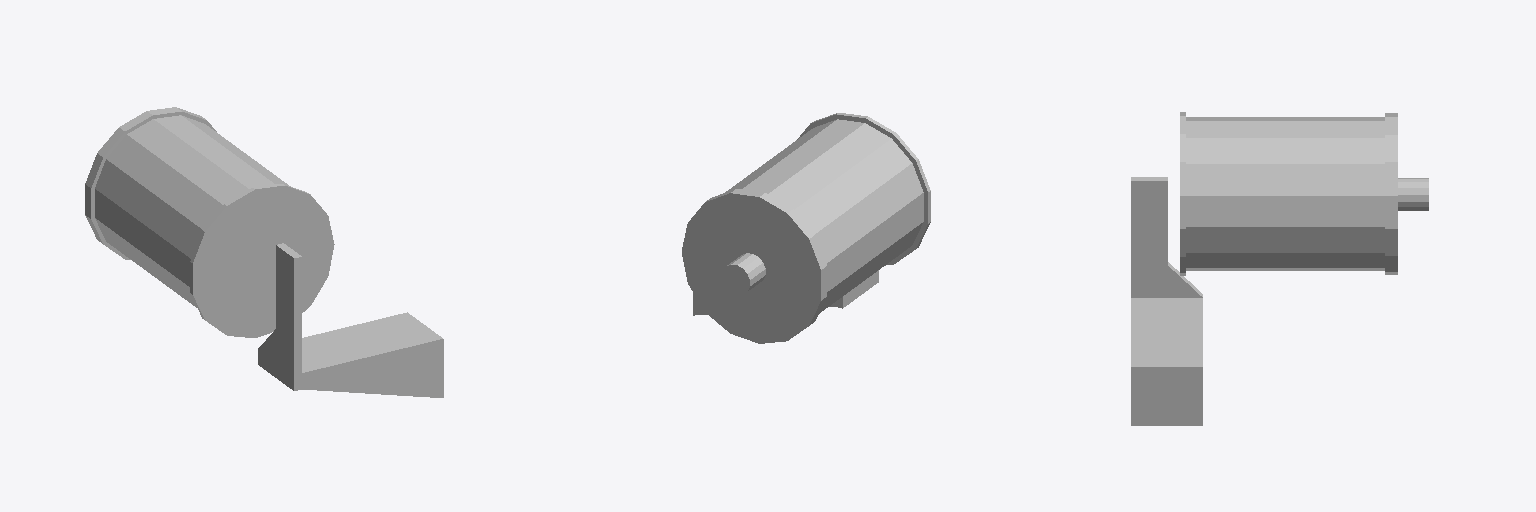
Rendered from Coxa_Mirrored.obj.
The picture shows the model from 3 angles: view 1: azimuth 30°, elevation 25°; view 2: azimuth 150°, elevation 25°; view 3: azimuth 270°, elevation 25°; orthographic projection.
Bounding box in the file's own units: 0.7822 × 0.7631 × 0.8942.